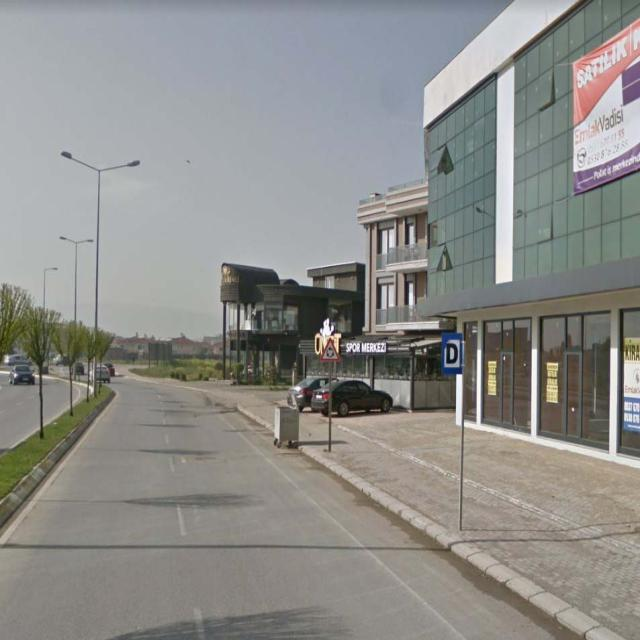durak: (442, 336, 462, 372)
